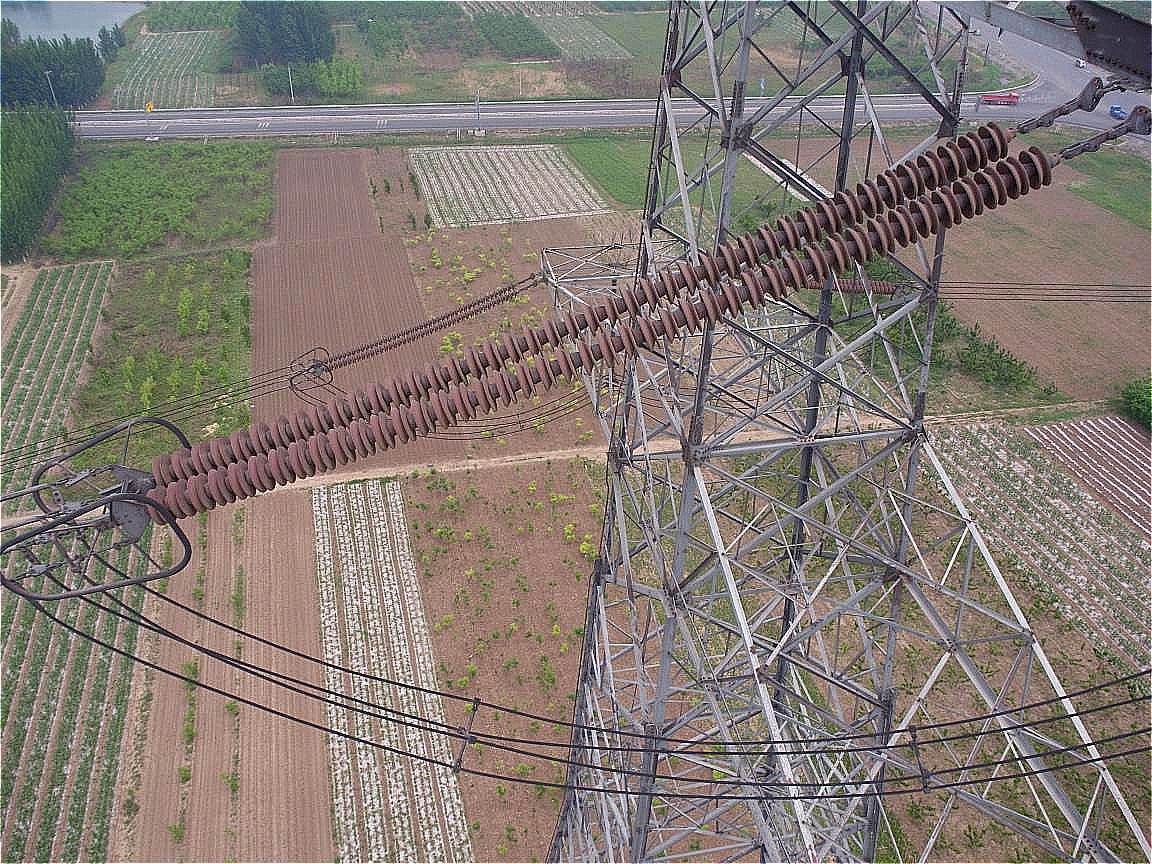insultor2: (119, 98, 1101, 545)
